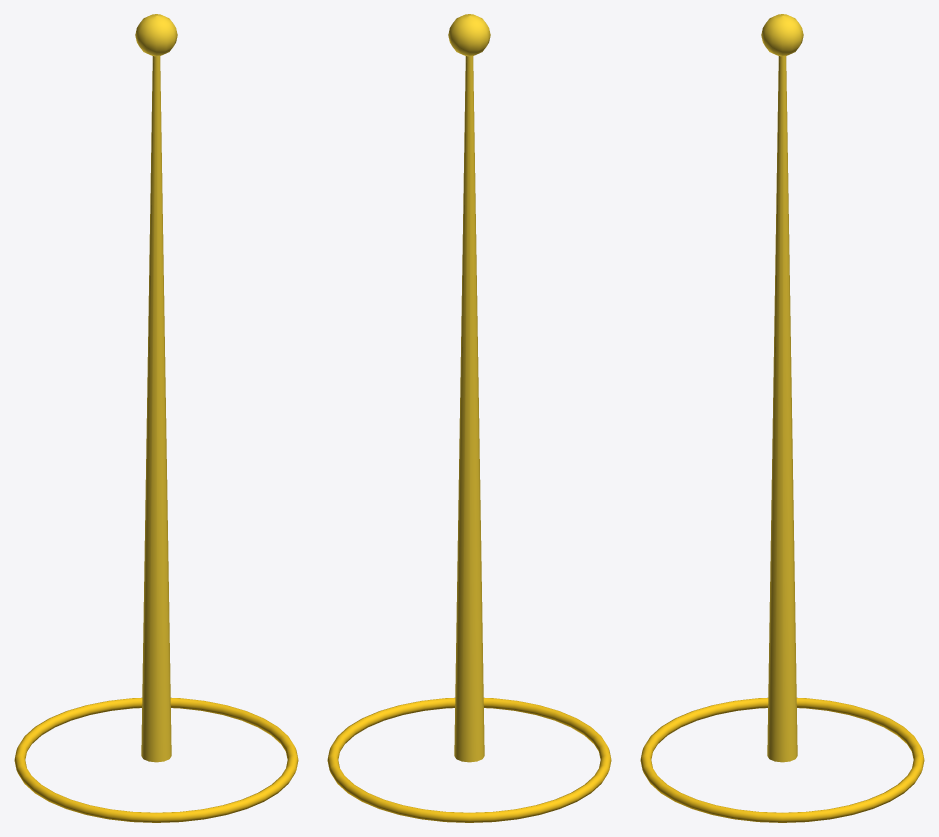
File: MissionMarker.obj
3 views of the same model, side by side, from view 1: azimuth 30°, elevation 25°; view 2: azimuth 150°, elevation 25°; view 3: azimuth 270°, elevation 25° (orthographic).
Size of the model in its own units: 0.936 by 2.72 by 0.936.
